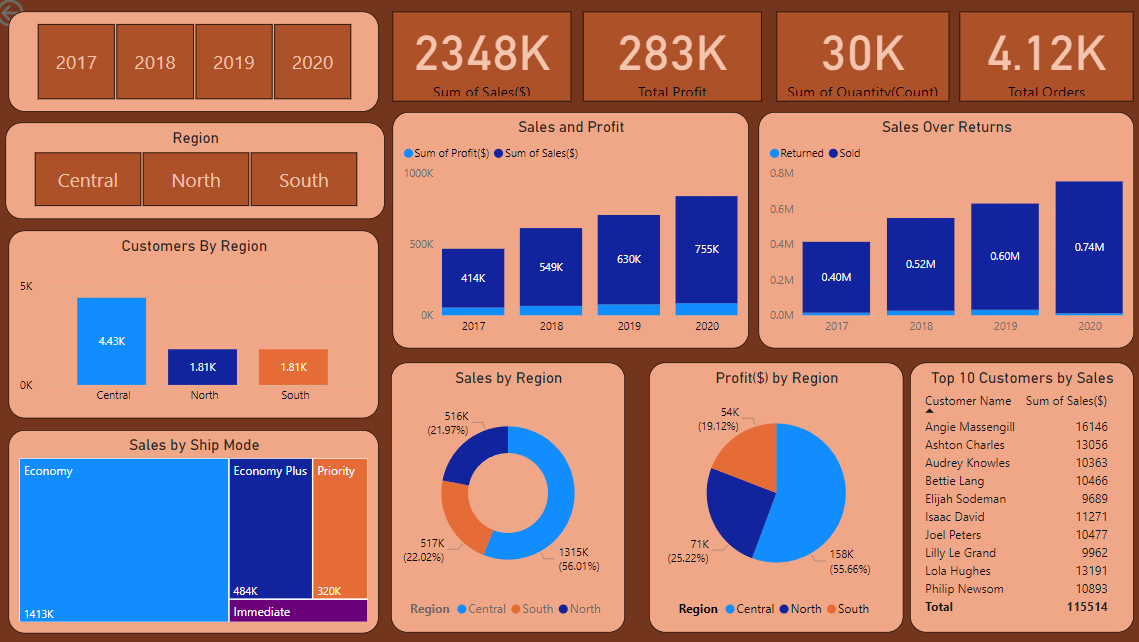

The page's visual inventory and layout, read from the dashboard file:
{"tool":"powerbi","page":{"name":"Page 1","canvas":[1280,720],"ordinal":0},"visuals":[{"type":"pivotTable","title":"Top 10 Customers by Sales","fields":{"Rows":["List of Orders.Customer Name"],"Values":["Order Breakdown.Sales"]},"box":[1020,408.3,248.3,300],"z":0},{"type":"donutChart","title":" Sales by Region","fields":{"Y":["Order Breakdown.Sales"],"Category":["List of Orders.Region"]},"box":[443.3,408.3,260,300],"z":1000},{"type":"treemap","title":" Sales by Ship Mode","fields":{"Group":["List of Orders.Ship Mode"],"Values":["Order Breakdown.Sales"]},"box":[18.6,482.9,411.4,225.7],"z":2000},{"type":"columnChart","title":" Sales Over Returns","fields":{"Category":["List of Orders.Order Date.Variation.Date Hierarchy.Year","List of Orders.Order Date.Variation.Date Hierarchy.Quarter"],"Y":["Order Breakdown.Sales($)"],"Series":["Order Breakdown.Return Status"]},"box":[851.4,130,417.1,262.9],"z":3000},{"type":"columnChart","title":" Sales and Profit ","fields":{"Y":["Order Breakdown.Profit($)","Order Breakdown.Sales($)"],"Category":["List of Orders.Order Date.Variation.Date Hierarchy.Year","List of Orders.Order Date.Variation.Date Hierarchy.Quarter","List of Orders.Order Date.Variation.Date Hierarchy.Month"]},"box":[444.3,130,395.7,262.9],"z":4000},{"type":"card","fields":{"Values":["Order Breakdown.Sales($)"]},"box":[444.3,18.6,198.6,100],"z":5000},{"type":"card","fields":{"Values":["Order Breakdown.Profit"]},"box":[656.7,18.3,198.3,100],"z":6000},{"type":"card","fields":{"Values":["Order Breakdown.Quantity(Count)"]},"box":[871.7,18.3,191.7,100],"z":7000},{"type":"card","fields":{"Values":["List of Orders.Order ID"]},"box":[1075,18.3,193.3,100],"z":8000},{"type":"slicer","title":"Region","fields":{"Values":["List of Orders.Region"]},"box":[14.3,141.4,421.4,107.1],"z":9000},{"type":"pieChart","title":"Profit($) by Region","fields":{"Category":["List of Orders.Region"],"Y":["Order Breakdown.Profit"]},"box":[730,408.6,282.9,300],"z":10000},{"type":"actionButton","box":[0,0,100,40],"z":11000},{"type":"slicer","fields":{"Values":["List of Orders.Order Date.Variation.Date Hierarchy.Year"]},"box":[18.6,18.6,411.4,111.4],"z":12000},{"type":"columnChart","title":" Customers By Region","fields":{"Category":["List of Orders.Region"],"Y":["Order Breakdown.Order ID"],"Series":["List of Orders.Region"]},"box":[18.6,261.4,411.4,208.6],"z":13000}]}

Visuals, with their boxes in screenshot pixels (x1, y1, x2, y2), scaled from the page's 1280x720 canvas onto the 1139x642 screenshot:
"Top 10 Customers by Sales" pivotTable: x1=908 y1=364 x2=1129 y2=632
" Sales by Region" donutChart: x1=394 y1=364 x2=626 y2=632
" Sales by Ship Mode" treemap: x1=17 y1=431 x2=383 y2=632
" Sales Over Returns" columnChart: x1=758 y1=116 x2=1129 y2=350
" Sales and Profit " columnChart: x1=395 y1=116 x2=747 y2=350
card - Order Breakdown.Sales($): x1=395 y1=17 x2=572 y2=106
card - Order Breakdown.Profit: x1=584 y1=16 x2=761 y2=105
card - Order Breakdown.Quantity(Count): x1=776 y1=16 x2=946 y2=105
card - List of Orders.Order ID: x1=957 y1=16 x2=1129 y2=105
"Region" slicer: x1=13 y1=126 x2=388 y2=222
"Profit($) by Region" pieChart: x1=650 y1=364 x2=901 y2=632
actionButton: x1=0 y1=0 x2=89 y2=36
slicer - List of Orders.Order Date.Variation.Date Hierarchy.Year: x1=17 y1=17 x2=383 y2=116
" Customers By Region" columnChart: x1=17 y1=233 x2=383 y2=419
